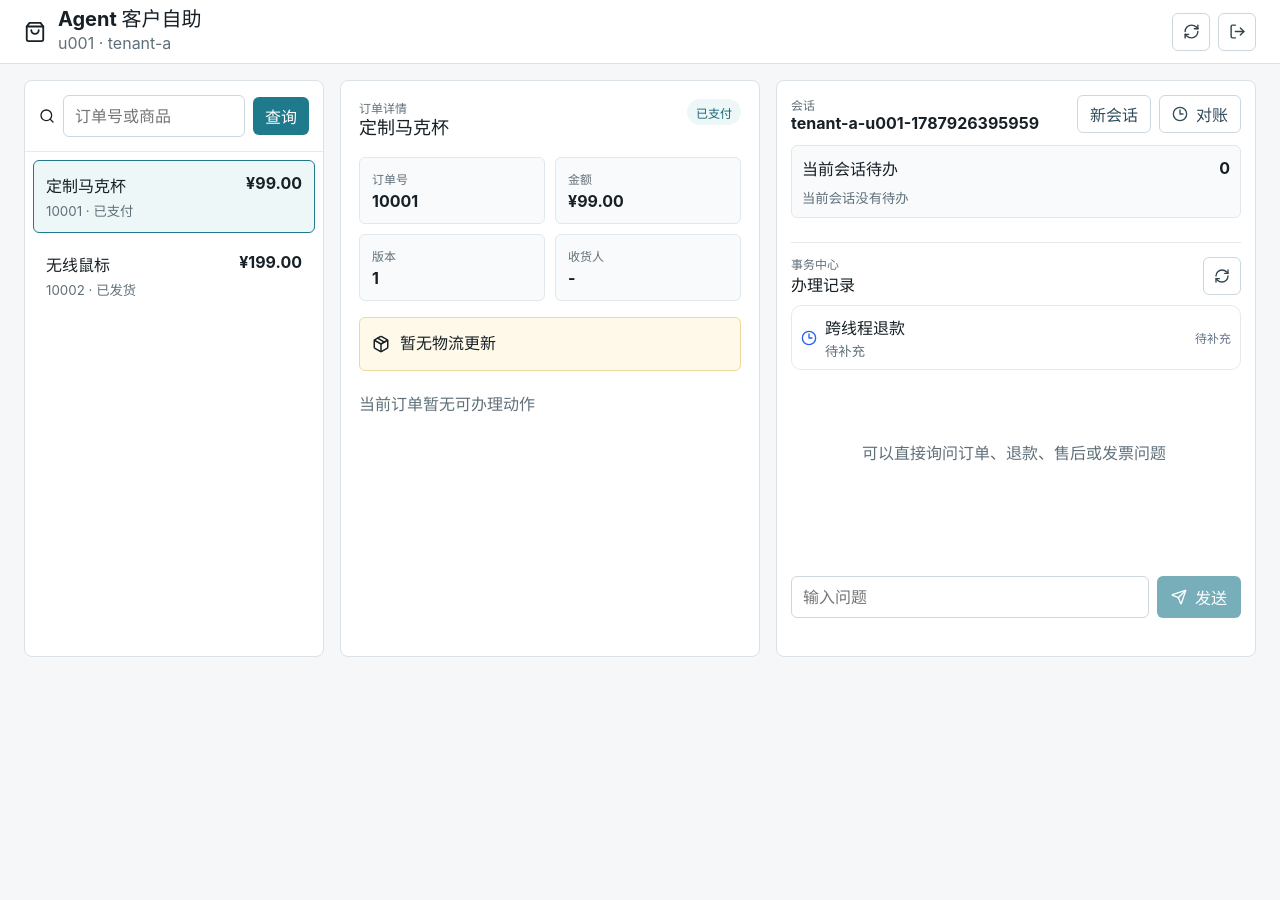
Scenario: full product journey › keeps explicit order selection, exposes accessible chat, and navigates transaction threads
This screenshot has width=1280, height=900.
Click the button "无线鼠标 ¥199.00 10002 · 已发货" at (78, 265), box [33,239,315,312]
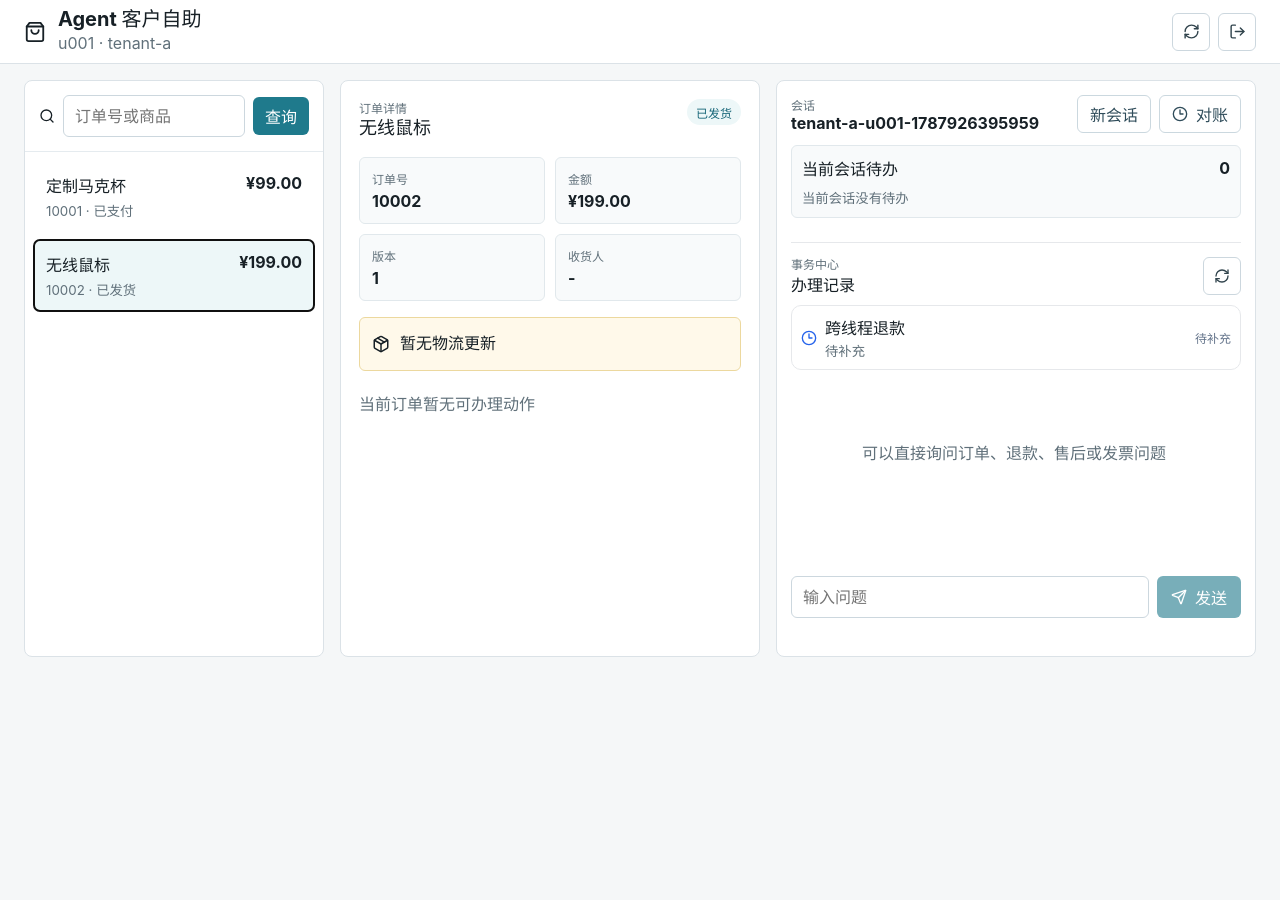
Expected: the button "新会话" is shown, [1077,95,1151,133]
Expected: the heading "无线鼠标" is shown, [359,116,431,139]
Click the button "跨线程退款 待补充 待补充" at (865, 328), box [791,305,1241,370]
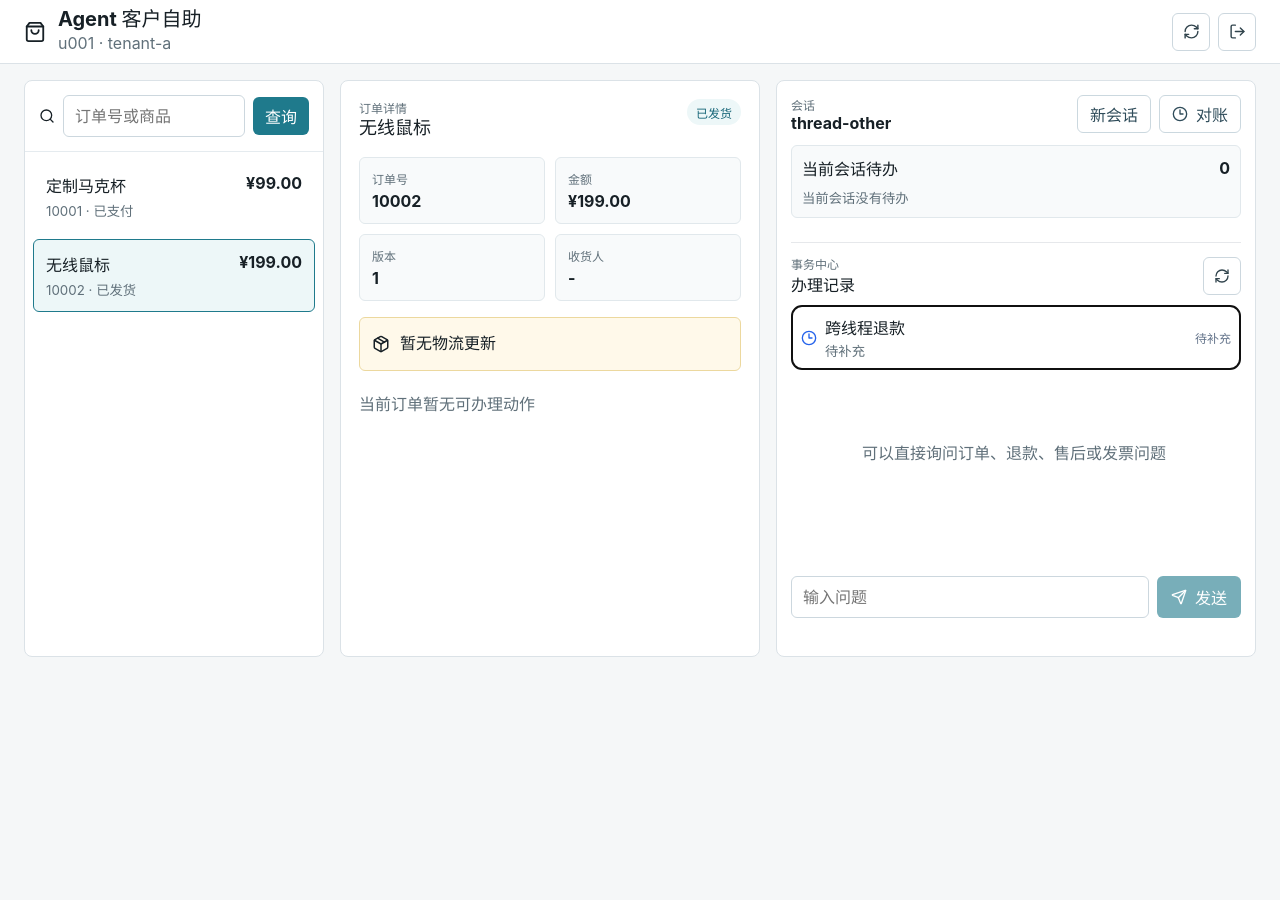
Expected: the text "thread-other" is shown, [791,112,891,132]
